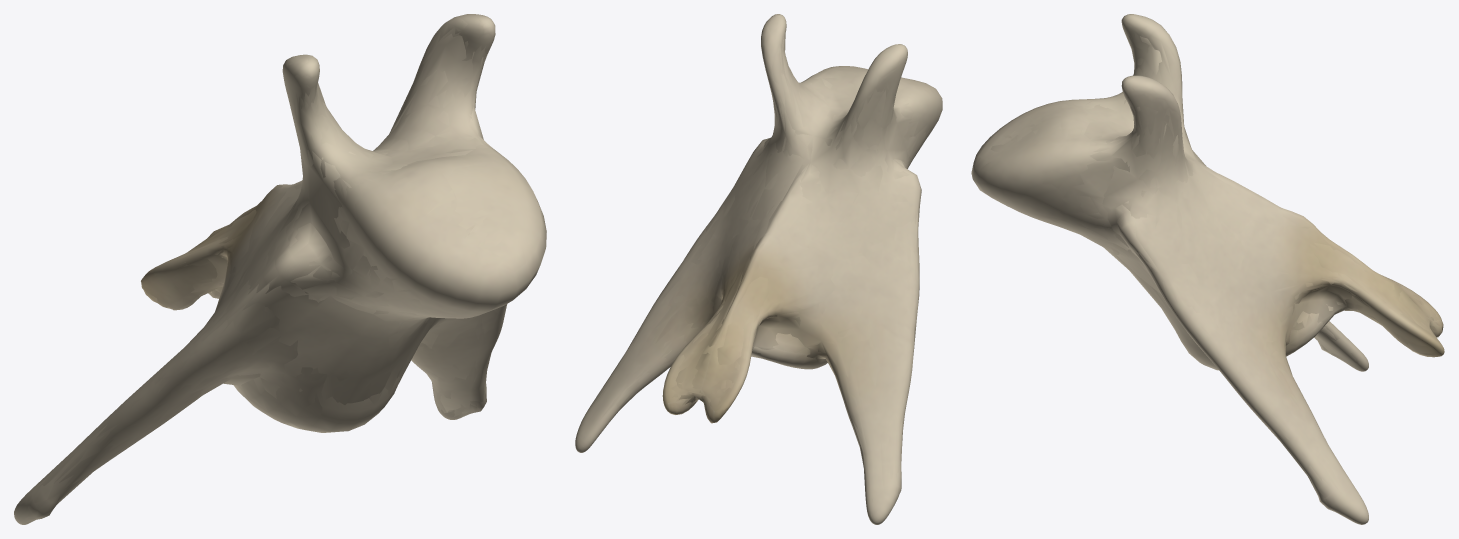
File: vertebrae caudales 04.fbx
3 renders of one model, left to right at view 1: azimuth 30°, elevation 25°; view 2: azimuth 150°, elevation 25°; view 3: azimuth 270°, elevation 25°, orthographic. The views are drawn at different scales.
Visible parts, largest first — view 1: vertebrae caudales 04, vertebrae caudales 04 high, vertebrae caudales 04 low; view 2: vertebrae caudales 04 high, vertebrae caudales 04, vertebrae caudales 04 low; view 3: vertebrae caudales 04 high, vertebrae caudales 04, vertebrae caudales 04 low.
Boxes of the visible parts, bbox=[...] form: vertebrae caudales 04: bbox=[14, 15, 546, 524]; vertebrae caudales 04 high: bbox=[14, 14, 546, 524]; vertebrae caudales 04 low: bbox=[54, 33, 493, 504]; vertebrae caudales 04 high: bbox=[575, 14, 941, 524]; vertebrae caudales 04: bbox=[575, 15, 942, 524]; vertebrae caudales 04 low: bbox=[609, 33, 929, 471]; vertebrae caudales 04 high: bbox=[972, 14, 1444, 524]; vertebrae caudales 04: bbox=[971, 14, 1443, 522]; vertebrae caudales 04 low: bbox=[1011, 36, 1435, 495].
Bounding box in the file's own units: 4.92 × 5.67 × 6.06.
1 material, 1 textured.
